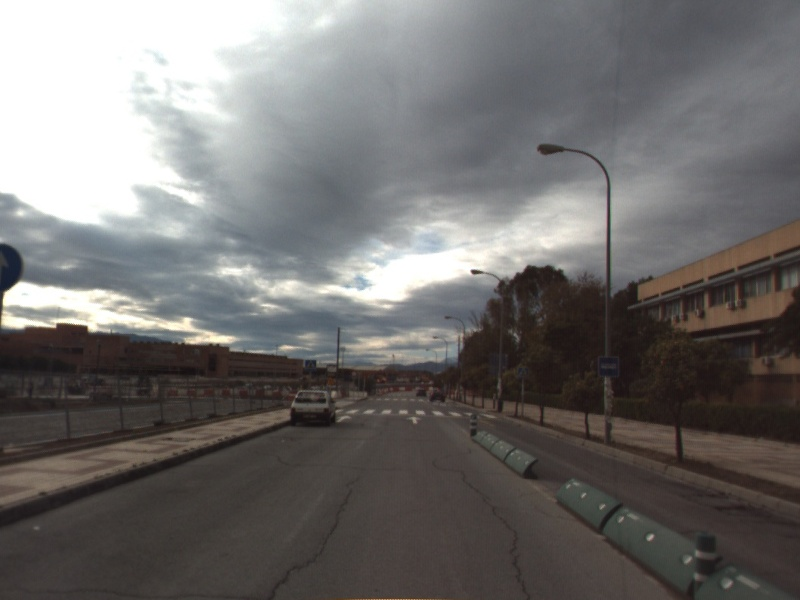STRAIGHT: (404, 414, 424, 426), (334, 413, 354, 424)
